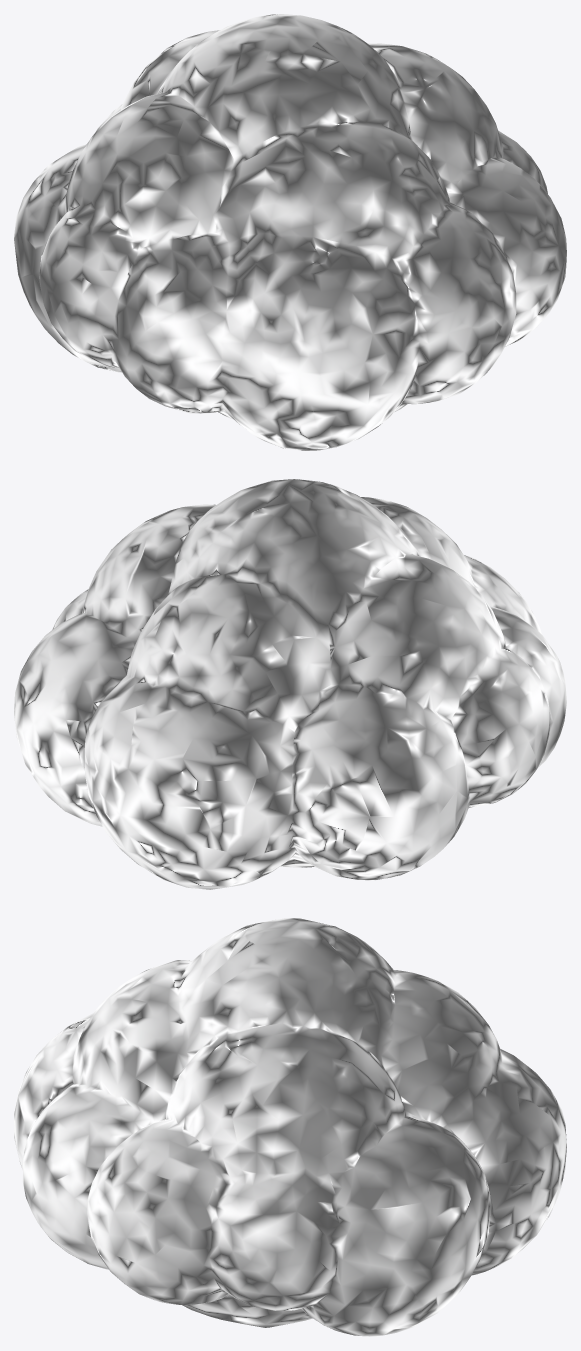
File: cloud_puff.glb
3 views of the same model, one above another, from view 1: azimuth 30°, elevation 25°; view 2: azimuth 150°, elevation 25°; view 3: azimuth 270°, elevation 25° (orthographic). The views are drawn at different scales.
Visible parts, largest first — view 1: bdec_7_cih3ef.glb; view 2: bdec_7_cih3ef.glb; view 3: bdec_7_cih3ef.glb.
Boxes of the visible parts, x1,y1,x2,y2 form: bdec_7_cih3ef.glb: (14,14,566,450); bdec_7_cih3ef.glb: (14,479,566,889); bdec_7_cih3ef.glb: (14,918,566,1336).
Bounding box in the file's own units: 0.9972 × 0.7426 × 1.
1 material, 1 textured.
